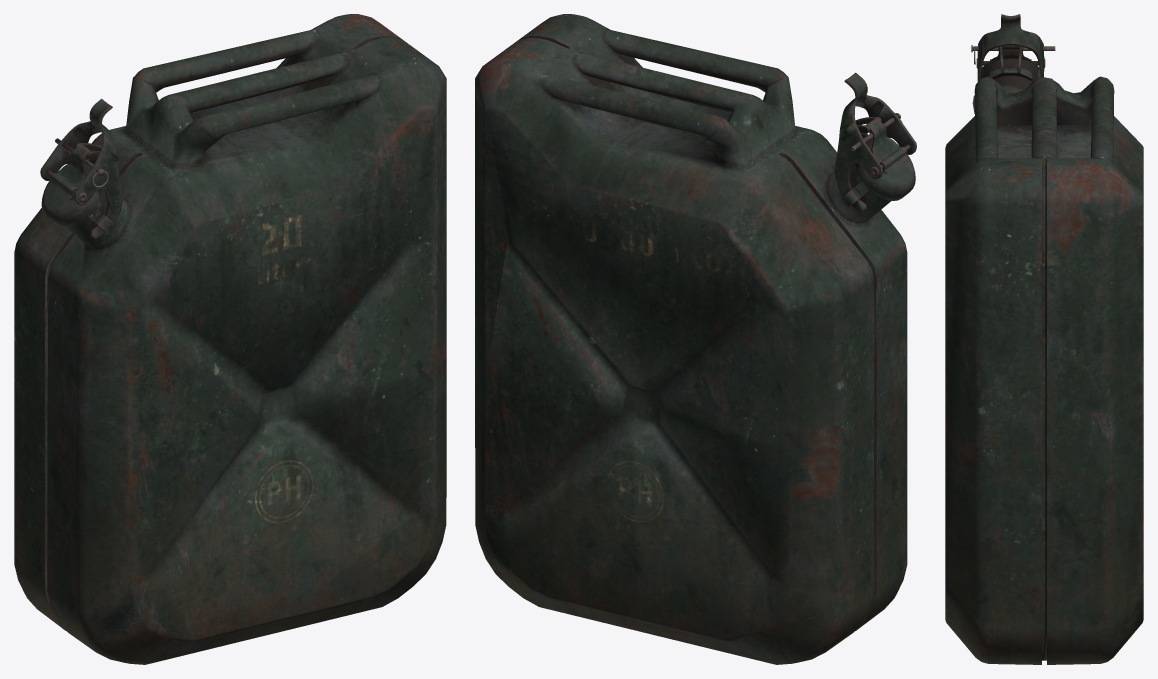
File: metal_jerrycan_green.glb
The picture shows the model from 3 angles, left to right: view 1: azimuth 30°, elevation 25°; view 2: azimuth 150°, elevation 25°; view 3: azimuth 270°, elevation 25°; orthographic projection. The views are drawn at different scales.
Visible parts, largest first — view 1: metal_jerrycan_green_body, metal_jerrycan_green_latch, metal_jerrycan_green_cap; view 2: metal_jerrycan_green_body, metal_jerrycan_green_latch, metal_jerrycan_green_cap; view 3: metal_jerrycan_green_body, metal_jerrycan_green_latch, metal_jerrycan_green_cap, metal_jerrycan_green_fastener.
Boxes of the visible parts, left/top/right/bottom form: metal_jerrycan_green_body: left=14, top=14, right=446, bottom=664; metal_jerrycan_green_latch: left=40, top=98, right=122, bottom=238; metal_jerrycan_green_cap: left=41, top=144, right=101, bottom=227; metal_jerrycan_green_body: left=475, top=14, right=907, bottom=664; metal_jerrycan_green_latch: left=834, top=72, right=916, bottom=212; metal_jerrycan_green_cap: left=855, top=118, right=915, bottom=200; metal_jerrycan_green_body: left=945, top=75, right=1143, bottom=664; metal_jerrycan_green_latch: left=976, top=14, right=1045, bottom=81; metal_jerrycan_green_cap: left=980, top=45, right=1040, bottom=79; metal_jerrycan_green_fastener: left=989, top=46, right=1032, bottom=81.
Size of the model in its own units: 0.3604 by 0.4999 by 0.1709.
Materials: 1 (1 with a texture image).
